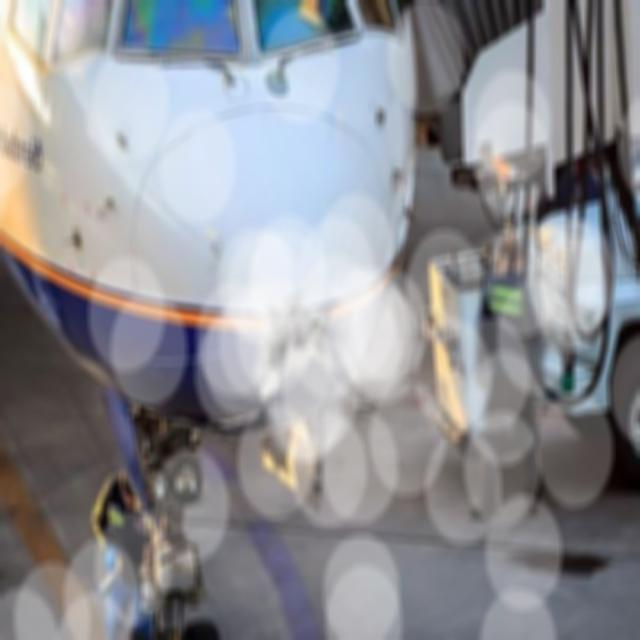crack: (263, 292, 335, 385)
